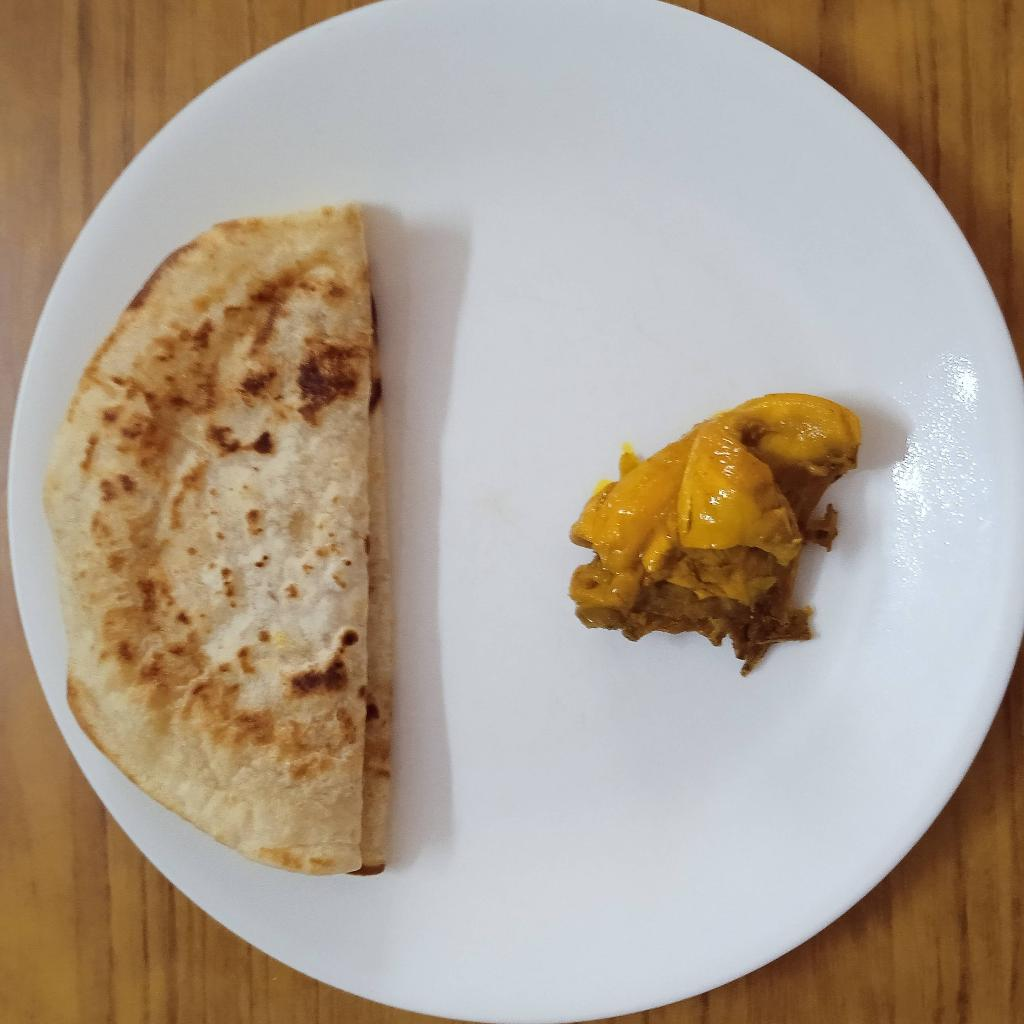chicken: (574, 386, 860, 676)
ruti: (51, 200, 396, 870)
